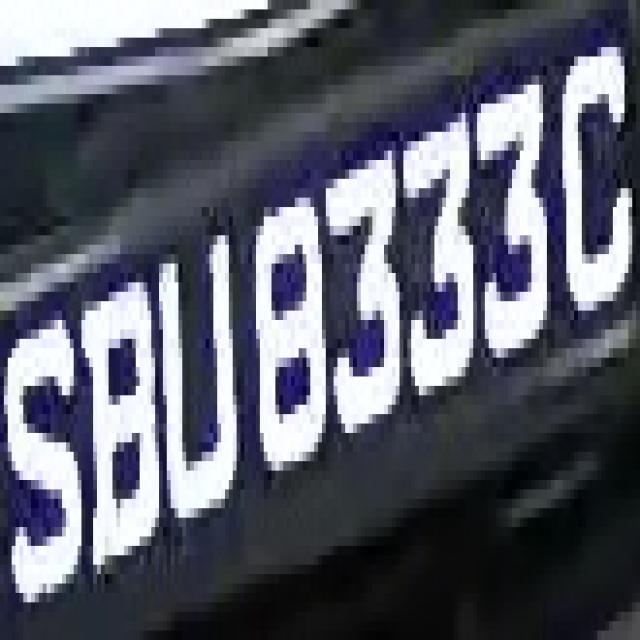3: (462, 56, 550, 386), (314, 141, 404, 433), (392, 84, 473, 404)
8: (236, 150, 330, 470)
B: (77, 264, 163, 564)
C: (559, 28, 636, 348)
S: (8, 292, 85, 584)
U: (147, 198, 240, 536)
